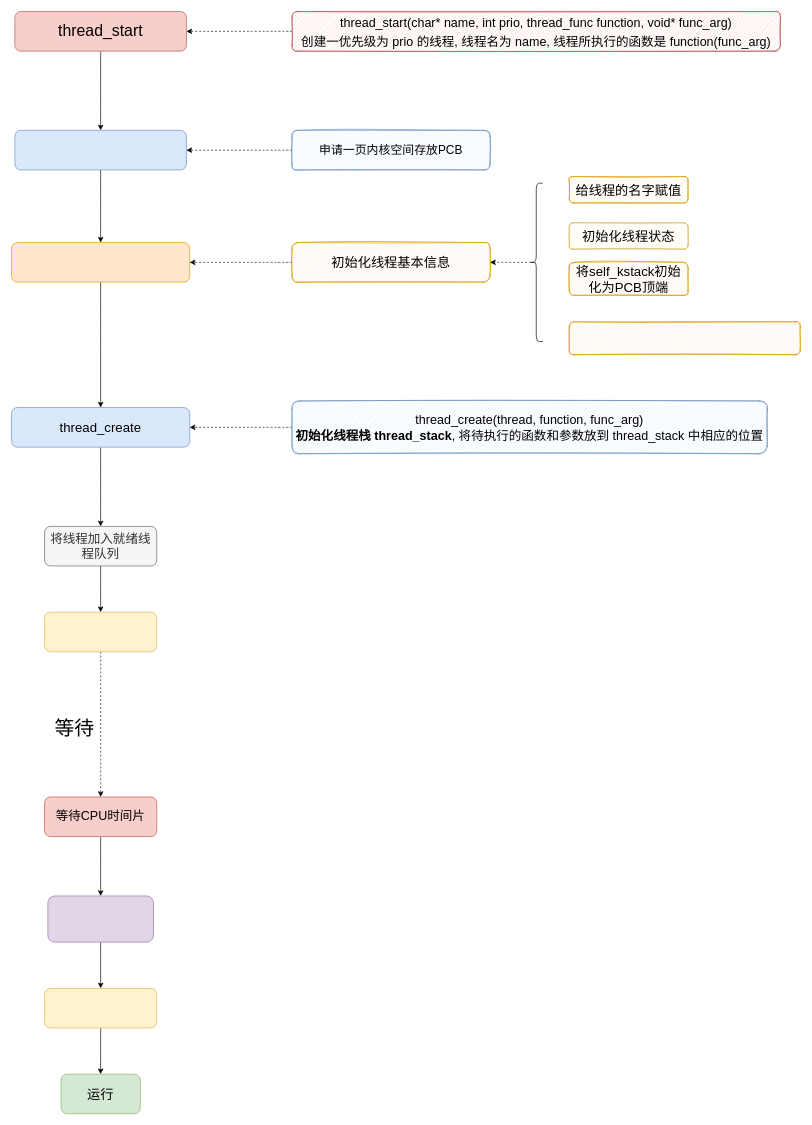
Image size: 812x1125. Some labels were removed from this diagram. Each missing label, with the box of its shape:
init_thread: (11, 242, 190, 282)
thread = get_kernel_pages(1): (14, 130, 186, 170)
初始化priority、ticks、elapsed_ticks、pgdir、stack_magic: (569, 321, 800, 355)
将线程加入全部线程队列: (44, 611, 157, 652)
更新页目录寄存器cr3: (44, 988, 157, 1028)
调度 schedule(): (47, 895, 153, 942)
